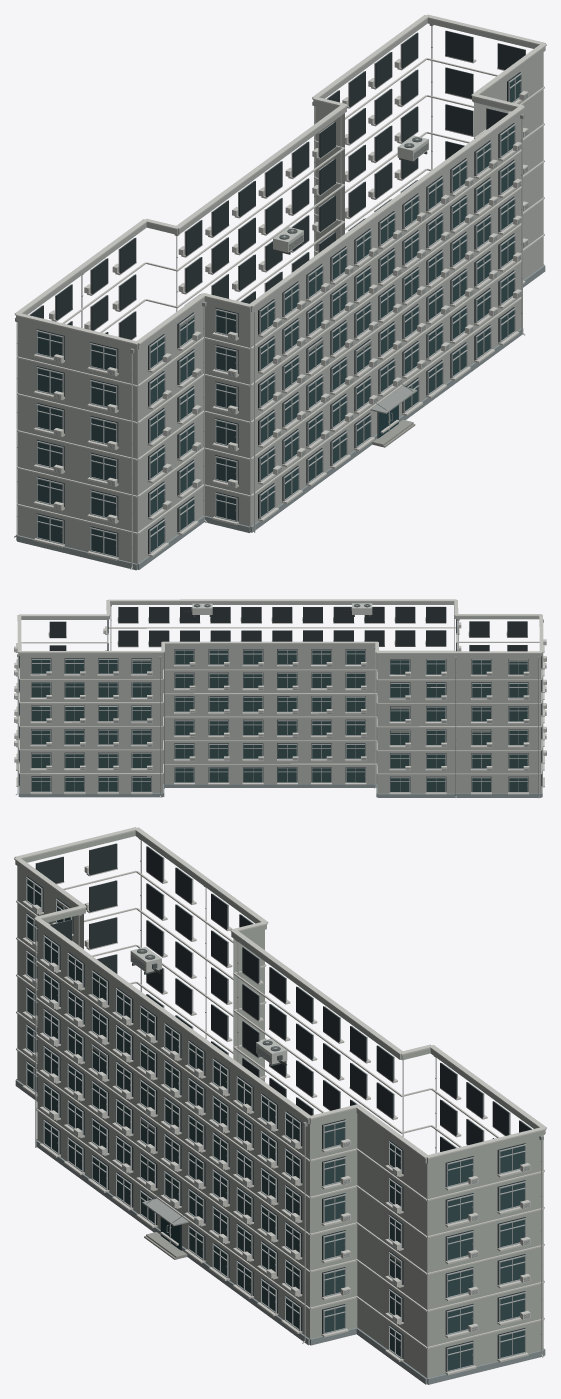
File: osm_way_225242507.glb
3 views of the same model, one above another, from view 1: azimuth 30°, elevation 25°; view 2: azimuth 150°, elevation 25°; view 3: azimuth 270°, elevation 25° (orthographic). The views are drawn at different scales.
Parts seen in each view (by area): view 1: Windows and facade details | 28, Architecture | 28, Roof services | 28, EXTERIOR::osm_way_225242507::rainwater and roof service deta, EXTERIOR::osm_way_225242507::inferred entry doors canopy and; view 2: Architecture | 28, Windows and facade details | 28, Roof services | 28, EXTERIOR::osm_way_225242507::rainwater and roof service deta, EXTERIOR::osm_way_225242507::native pane seals and hardware; view 3: Windows and facade details | 28, Architecture | 28, Roof services | 28, EXTERIOR::osm_way_225242507::rainwater and roof service deta, EXTERIOR::osm_way_225242507::inferred entry doors canopy and.
Part boxes in pixels (<box>): Windows and facade details | 28: <box>29,30,528,560</box>; Architecture | 28: <box>16,18,545,570</box>; Roof services | 28: <box>14,14,546,344</box>; EXTERIOR::osm_way_225242507::rainwater and roof service deta: <box>14,24,525,569</box>; EXTERIOR::osm_way_225242507::inferred entry doors canopy and: <box>370,384,417,447</box>; Architecture | 28: <box>18,601,542,797</box>; Windows and facade details | 28: <box>14,605,546,794</box>; Roof services | 28: <box>17,599,543,653</box>; EXTERIOR::osm_way_225242507::rainwater and roof service deta: <box>16,603,545,798</box>; EXTERIOR::osm_way_225242507::native pane seals and hardware: <box>49,657,527,785</box>; Windows and facade details | 28: <box>22,843,532,1375</box>; Architecture | 28: <box>15,831,545,1384</box>; Roof services | 28: <box>14,827,546,1158</box>; EXTERIOR::osm_way_225242507::rainwater and roof service deta: <box>77,838,543,1357</box>; EXTERIOR::osm_way_225242507::inferred entry doors canopy and: <box>142,1194,189,1259</box>.
Bounding box in the file's own units: 61.5 × 20.58 × 41.86.
